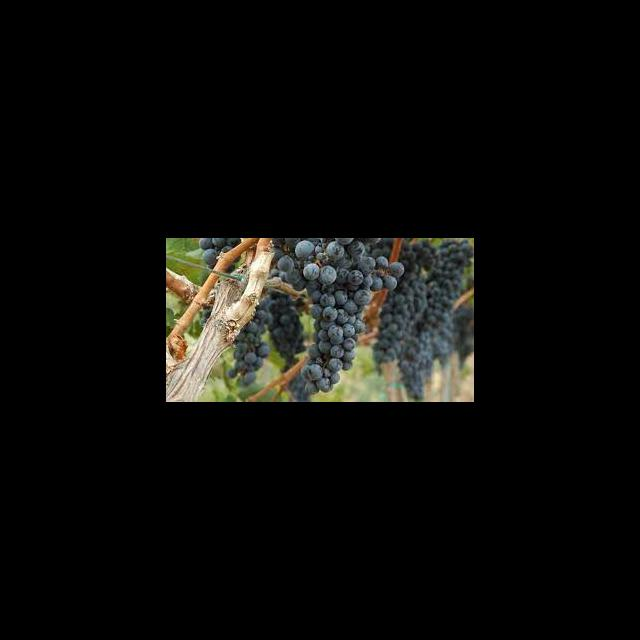grape: (275, 238, 402, 396)
